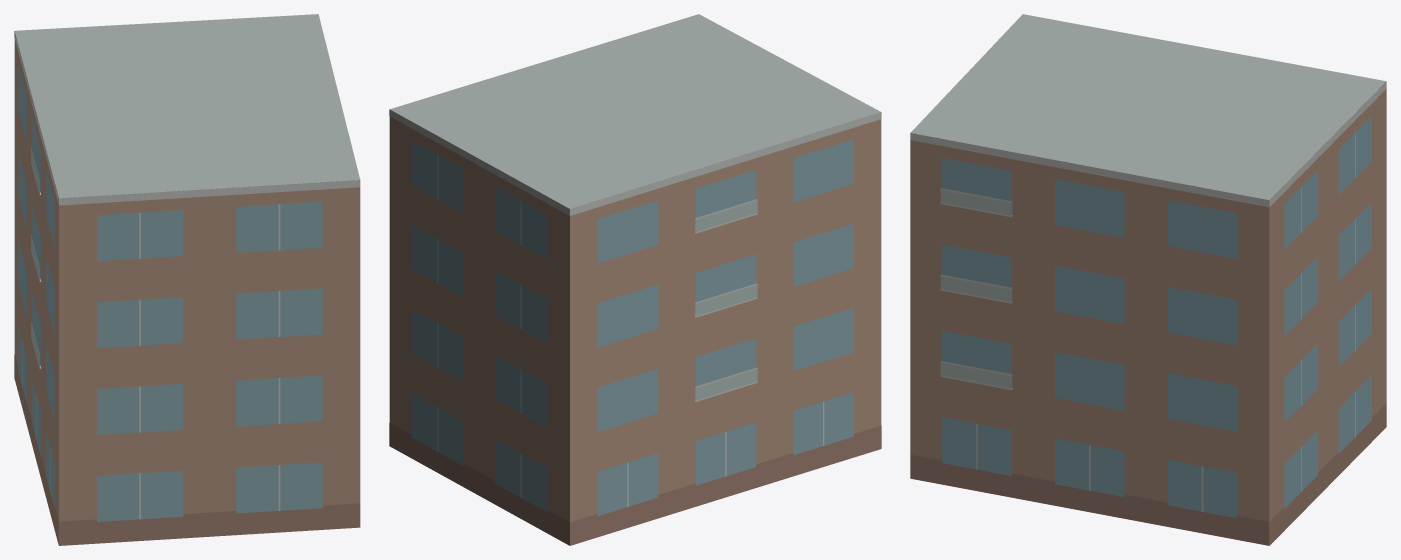
The model's file is survey-upis-32537735.glb.
3 renders of one model, left to right at view 1: azimuth 30°, elevation 25°; view 2: azimuth 150°, elevation 25°; view 3: azimuth 270°, elevation 25°, orthographic. The views are drawn at different scales.
Visible parts, largest first — view 1: survey-upis-32537735.tmp; view 2: survey-upis-32537735.tmp; view 3: survey-upis-32537735.tmp.
Boxes of the visible parts, bbox=[...] form: survey-upis-32537735.tmp: bbox=[14, 14, 360, 545]; survey-upis-32537735.tmp: bbox=[389, 14, 881, 545]; survey-upis-32537735.tmp: bbox=[910, 14, 1386, 545].
Size of the model in its own units: 13.52 by 11.7 by 14.62.
